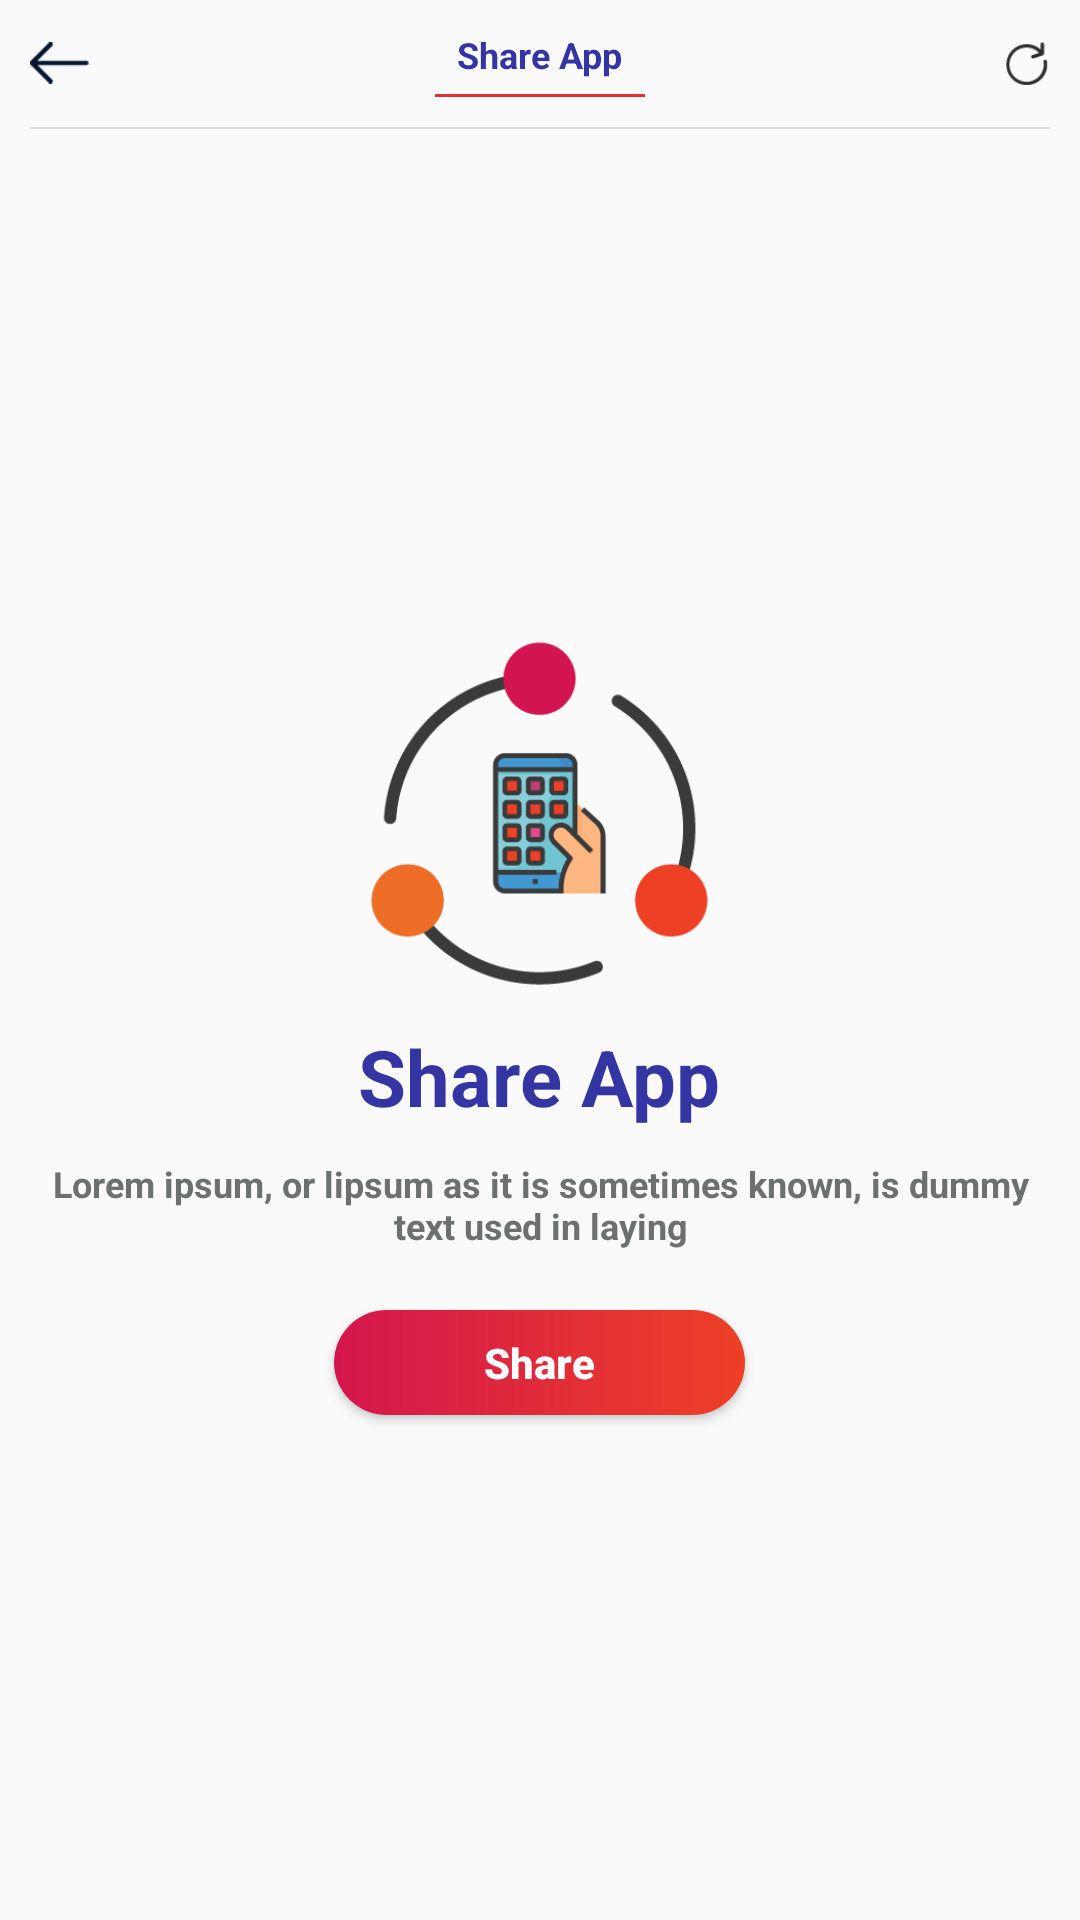

Screen size 1080 x 1920. Icon name, then its box in pixels as (x1, y1, x2, y2):
back: (30, 42, 89, 84)
refresh: (1006, 42, 1048, 85)
